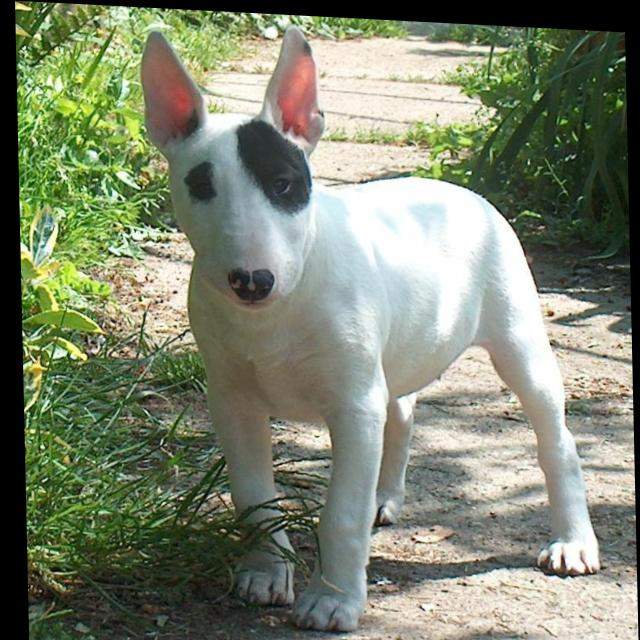bullterrier: (139, 16, 602, 640)
